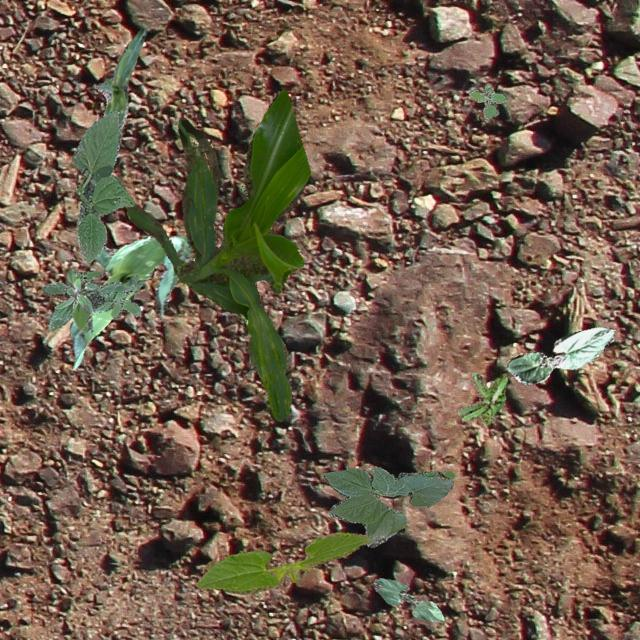crop: (126, 88, 310, 420), (68, 235, 190, 368), (322, 466, 453, 546), (196, 532, 370, 592), (70, 110, 132, 262), (506, 326, 614, 384), (94, 27, 146, 144), (372, 576, 442, 622)
weed: (42, 270, 138, 330), (456, 372, 506, 424), (66, 268, 98, 312), (468, 85, 506, 122)
